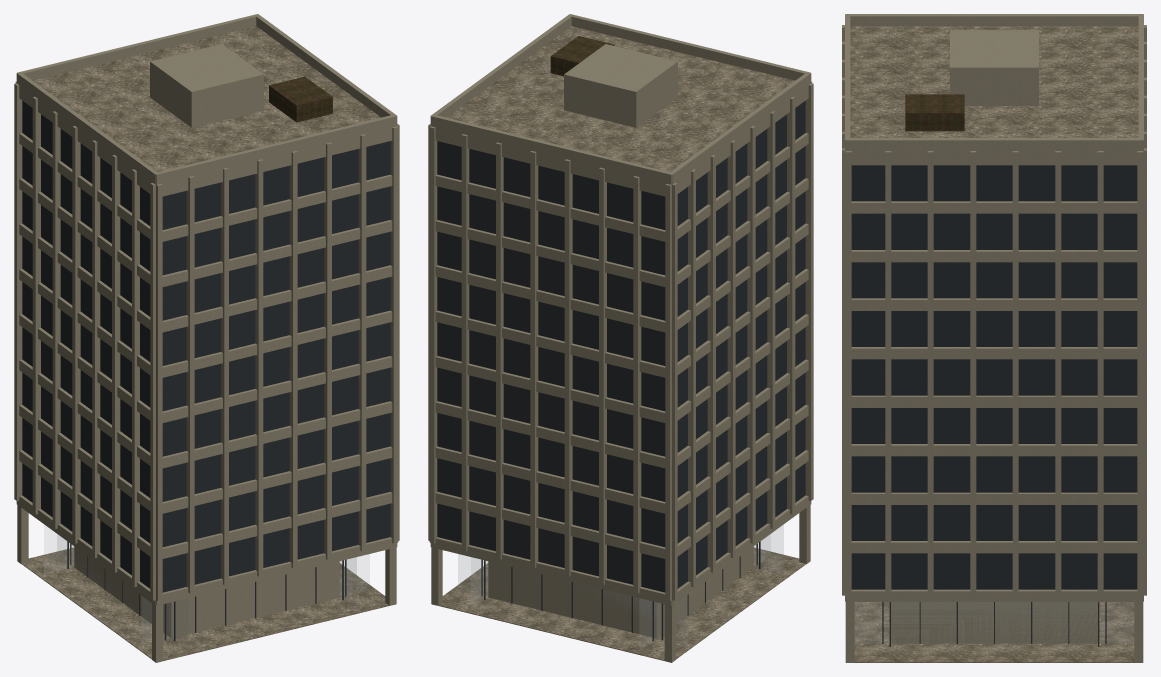
The model's file is bldg_office_tower_10st.gltf.
The picture shows the model from 3 angles, left to right: view 1: azimuth 30°, elevation 25°; view 2: azimuth 150°, elevation 25°; view 3: azimuth 270°, elevation 25°; orthographic projection. The views are drawn at different scales.
Visible parts, largest first — view 1: bldg_office_tower_10st; view 2: bldg_office_tower_10st; view 3: bldg_office_tower_10st.
Part boxes in pixels (left/top/right/bottom): bldg_office_tower_10st: left=14, top=14, right=399, bottom=662; bldg_office_tower_10st: left=428, top=14, right=813, bottom=662; bldg_office_tower_10st: left=842, top=14, right=1146, bottom=662.
Size of what is drawn, in the model's own units: 20.5 by 40.92 by 20.5.
6 materials, 3 textured.
